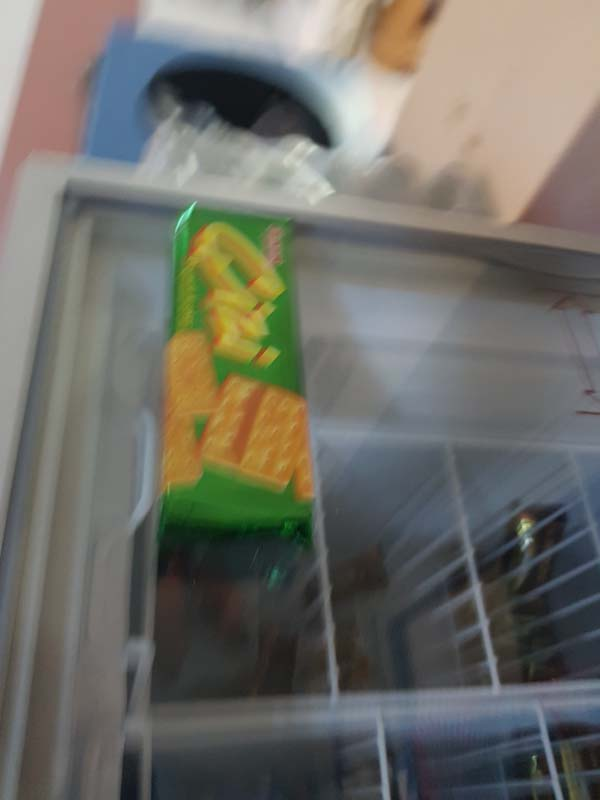cizi: (142, 196, 330, 542)
